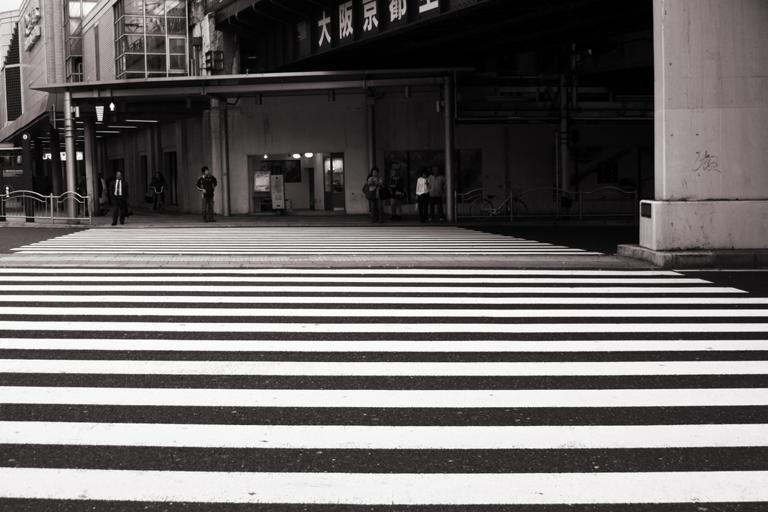non-vehicle: (469, 183, 527, 221), (149, 184, 165, 213)
